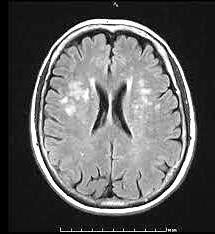Normal_Brain: (1, 1, 215, 234)
